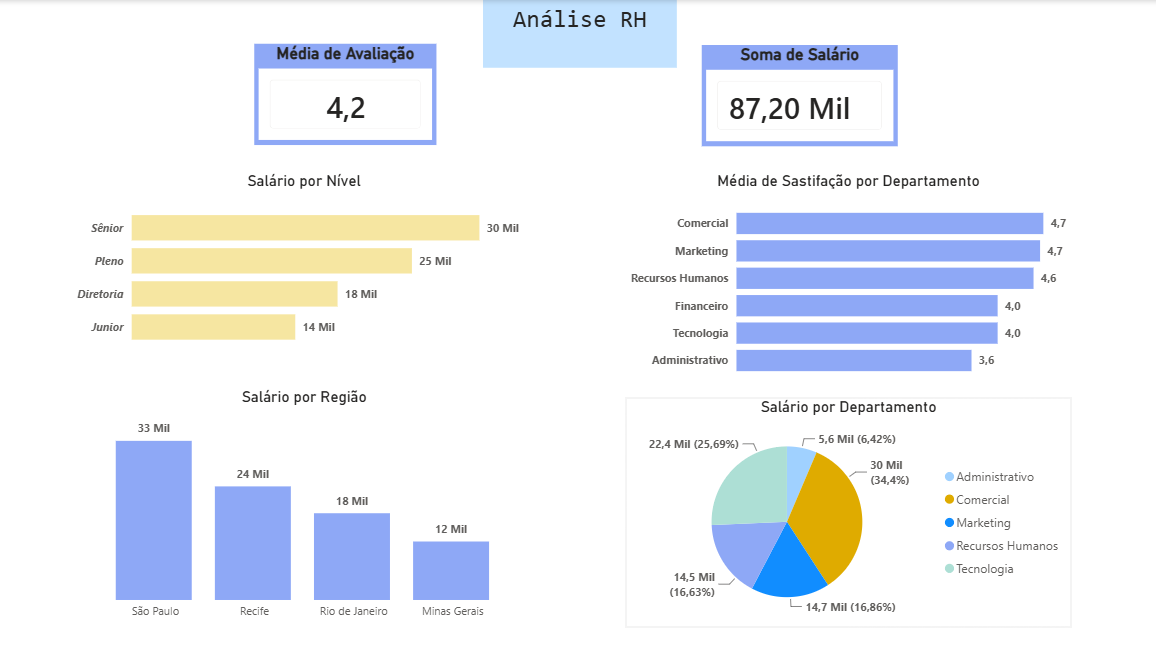

What the dashboard file says about the page in this screenshot:
{"tool":"powerbi","page":{"name":"RH","canvas":[1280,720],"ordinal":0},"visuals":[{"type":"cardVisual","title":"Soma de Salário","fields":{"Data":["Sum(FINANCEIRO.Salario_Base)"]},"box":[772.6,49.4,215.4,111.1],"z":0},{"type":"cardVisual","title":"Média de Avaliação","fields":{"Data":["Avg(FINANCEIRO.Avaliacao_Desempenho)"]},"box":[281.3,48,200.3,111.1],"z":1},{"type":"columnChart","title":"Salário por Região","fields":{"Y":["Sum(FINANCEIRO.Salario_Base)"],"Category":["FINANCEIRO.Regiao"]},"box":[81,425.4,510.5,263.5],"z":2},{"type":"clusteredBarChart","title":"Salário por Nível","fields":{"Category":["FINANCEIRO.Nivel"],"Y":["Sum(FINANCEIRO.Salario_Base)"]},"box":[81,188,510.5,205.8],"z":3},{"type":"pieChart","title":"Salário por Departamento","fields":{"Y":["Sum(FINANCEIRO.Salario_Base)"],"Series":["FINANCEIRO.Departamento"]},"box":[688.9,436.4,489.9,252.5],"z":4},{"type":"barChart","title":"Média de Sastifação por Departamento","fields":{"Category":["FINANCEIRO.Departamento"],"Y":["Avg(FINANCEIRO.Avaliacao_Desempenho)"]},"box":[688.9,188,489.9,237.4],"z":5},{"type":"textbox","box":[532.4,0,212.7,74.1],"z":6}]}

Visuals, with their boxes in screenshot pixels (x1, y1, x2, y2), scaled from the page's 1280x720 canvas onto the 1156x650 screenshot:
"Soma de Salário" cardVisual: crop(698, 45, 892, 145)
"Média de Avaliação" cardVisual: crop(254, 43, 435, 144)
"Salário por Região" columnChart: crop(73, 384, 534, 622)
"Salário por Nível" clusteredBarChart: crop(73, 170, 534, 356)
"Salário por Departamento" pieChart: crop(622, 394, 1065, 622)
"Média de Sastifação por Departamento" barChart: crop(622, 170, 1065, 384)
textbox: crop(481, 0, 673, 67)
